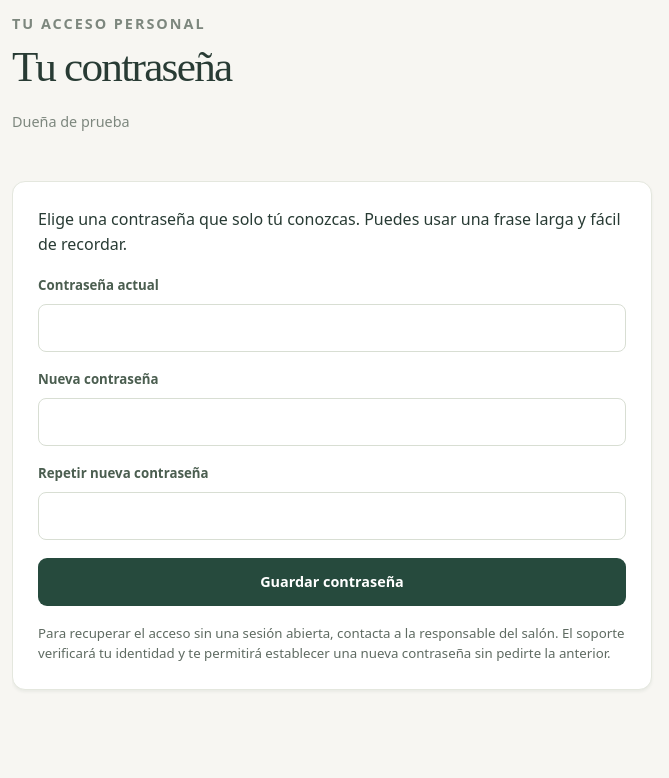
Test: requires the current password before changing it
Type "una frase larga y nueva" into the password field labelled "Nueva contraseña" at (332,422), box [38, 398, 626, 446]
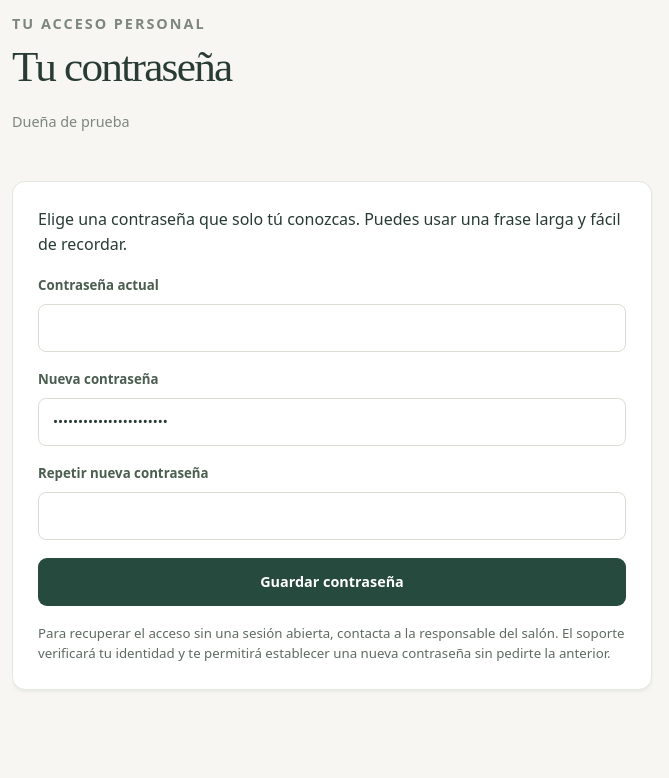
Type "una frase larga y nueva" into the password field labelled "Repetir nueva contraseña" at (332,516), box [38, 492, 626, 540]
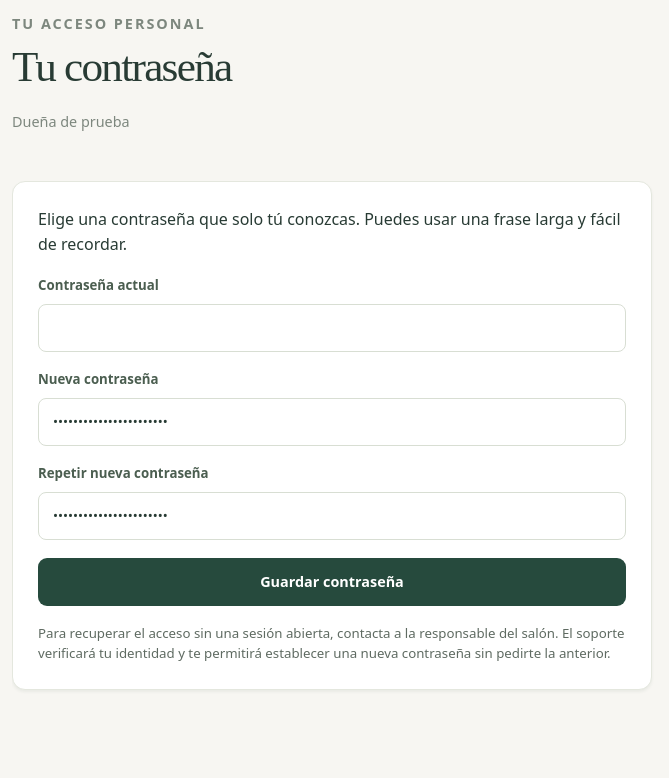
Click the button "Guardar contraseña" at (332,582), box [38, 558, 626, 606]
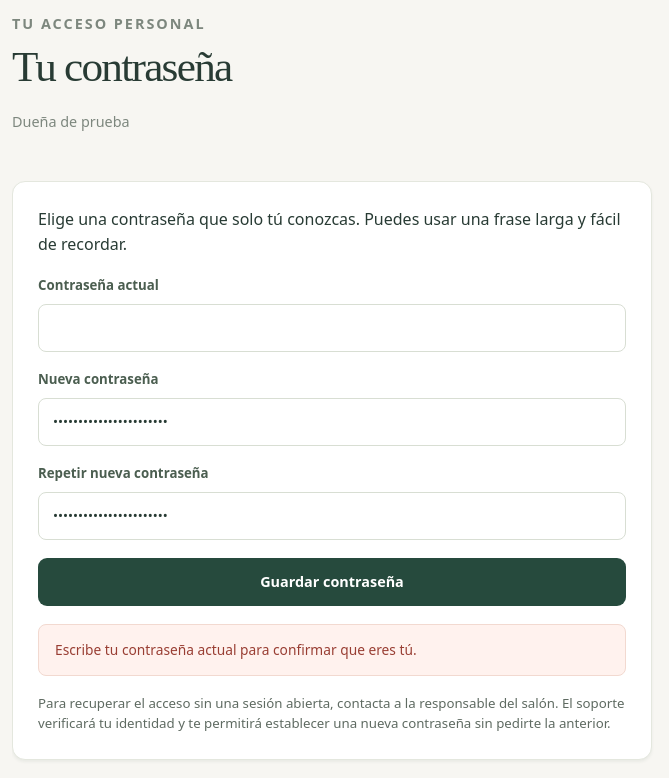
Check: the message shows "contraseña actual", box [55, 640, 417, 659]
